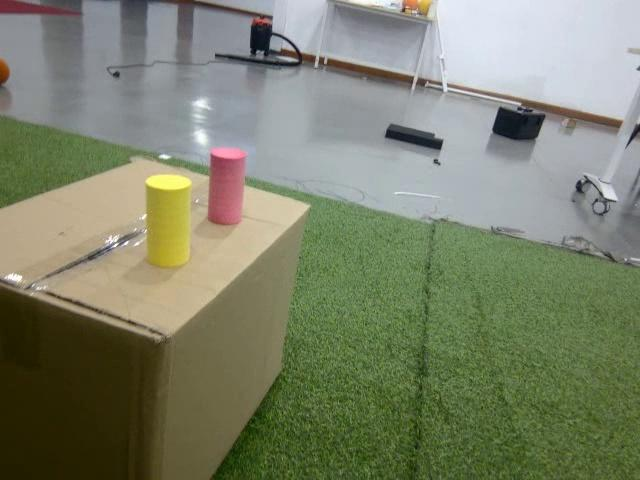red_cylinder: (206, 144, 247, 228)
yellow_cylinder: (140, 173, 193, 268)
